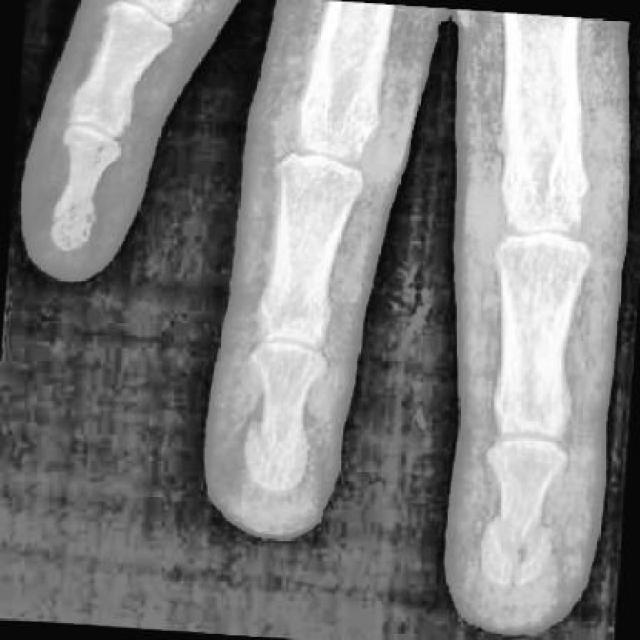Fracture: (237, 410, 311, 499), (478, 509, 556, 589)
